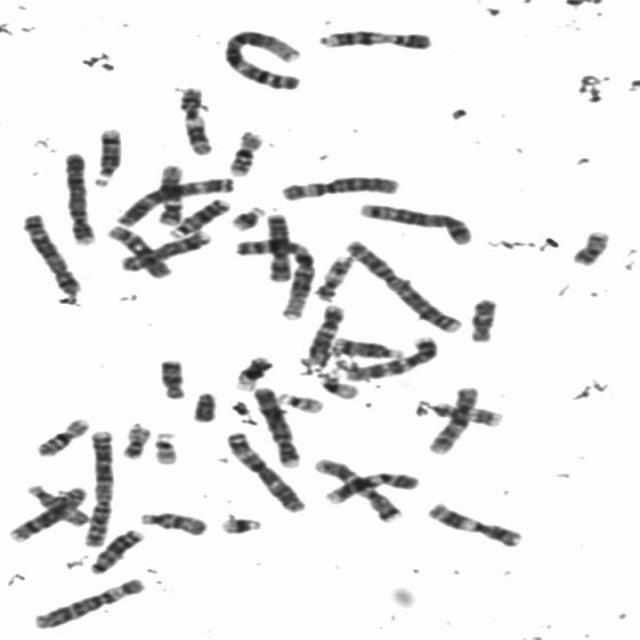A1: (231, 234, 317, 322), (218, 28, 306, 92)
A2: (340, 236, 464, 334), (79, 426, 115, 548)
A3: (221, 428, 307, 514), (112, 175, 237, 228)
B4: (250, 383, 301, 469), (59, 149, 97, 247)
B5: (18, 211, 82, 297), (355, 200, 473, 246)
C10: (424, 383, 481, 456), (103, 222, 172, 282)
C11: (422, 500, 525, 550), (176, 82, 213, 158)
C12: (298, 303, 347, 368), (154, 161, 187, 227)
C6: (28, 574, 148, 630), (278, 172, 400, 203)
C7: (309, 455, 403, 524), (340, 333, 438, 381)
C8: (4, 483, 88, 543), (115, 228, 215, 271)
C9: (321, 469, 421, 506), (314, 26, 434, 52)
D13: (84, 526, 145, 575), (166, 196, 232, 238)
D14: (90, 126, 124, 188), (328, 334, 404, 360)
D15: (22, 481, 89, 527), (136, 508, 208, 537)
E16: (30, 415, 91, 459), (225, 128, 266, 178)
E17: (426, 399, 504, 428), (310, 252, 355, 302)
E18: (466, 295, 498, 343), (155, 355, 187, 401)
F19: (235, 356, 275, 392), (317, 369, 361, 400)
F20: (567, 228, 613, 267), (118, 422, 152, 460)
G21: (227, 204, 267, 232), (216, 513, 264, 535)
G22: (274, 390, 324, 414), (150, 429, 180, 468)
X: (261, 211, 291, 283)
Y: (187, 391, 219, 424)
